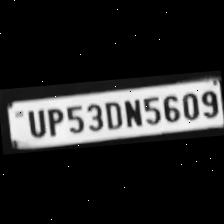0: (178, 88, 201, 120)
3: (84, 98, 104, 131)
5: (62, 100, 86, 134), (140, 92, 162, 125)
6: (160, 90, 182, 122)
9: (197, 86, 220, 119)
D: (100, 96, 124, 130)
N: (121, 95, 143, 128)
P: (43, 103, 66, 137)
U: (22, 104, 48, 138)
